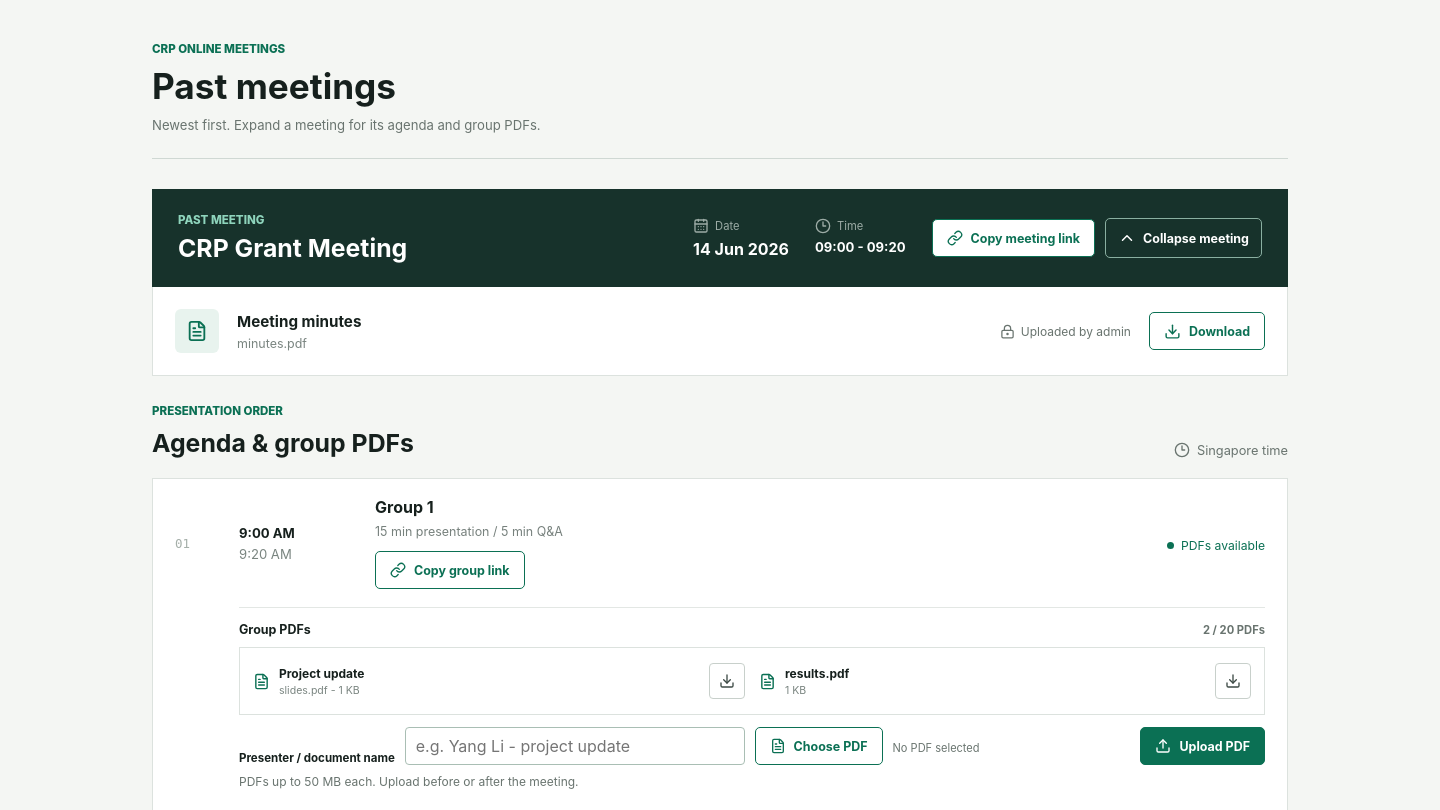
MeetingCollection › collapses from the bottom, restores focus, and preserves unfinished PDF input
Type "Draft update" into the field labelled "Presenter / document name". click: (575,746)
box: [405, 727, 745, 765]
(page scrolled)
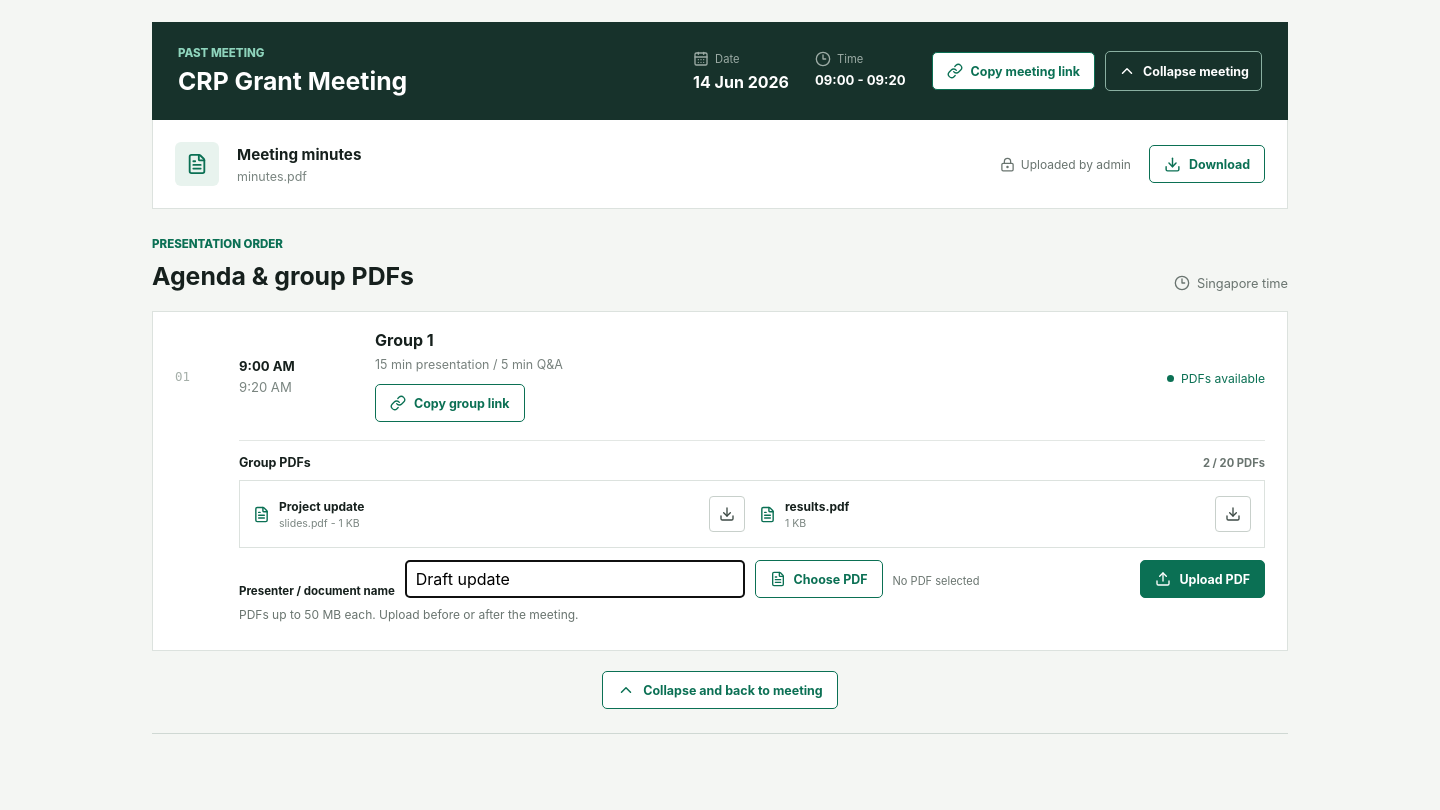
Click the button "Collapse and back to meeting". click: (720,690)
box: [602, 671, 838, 709]
(page scrolled)
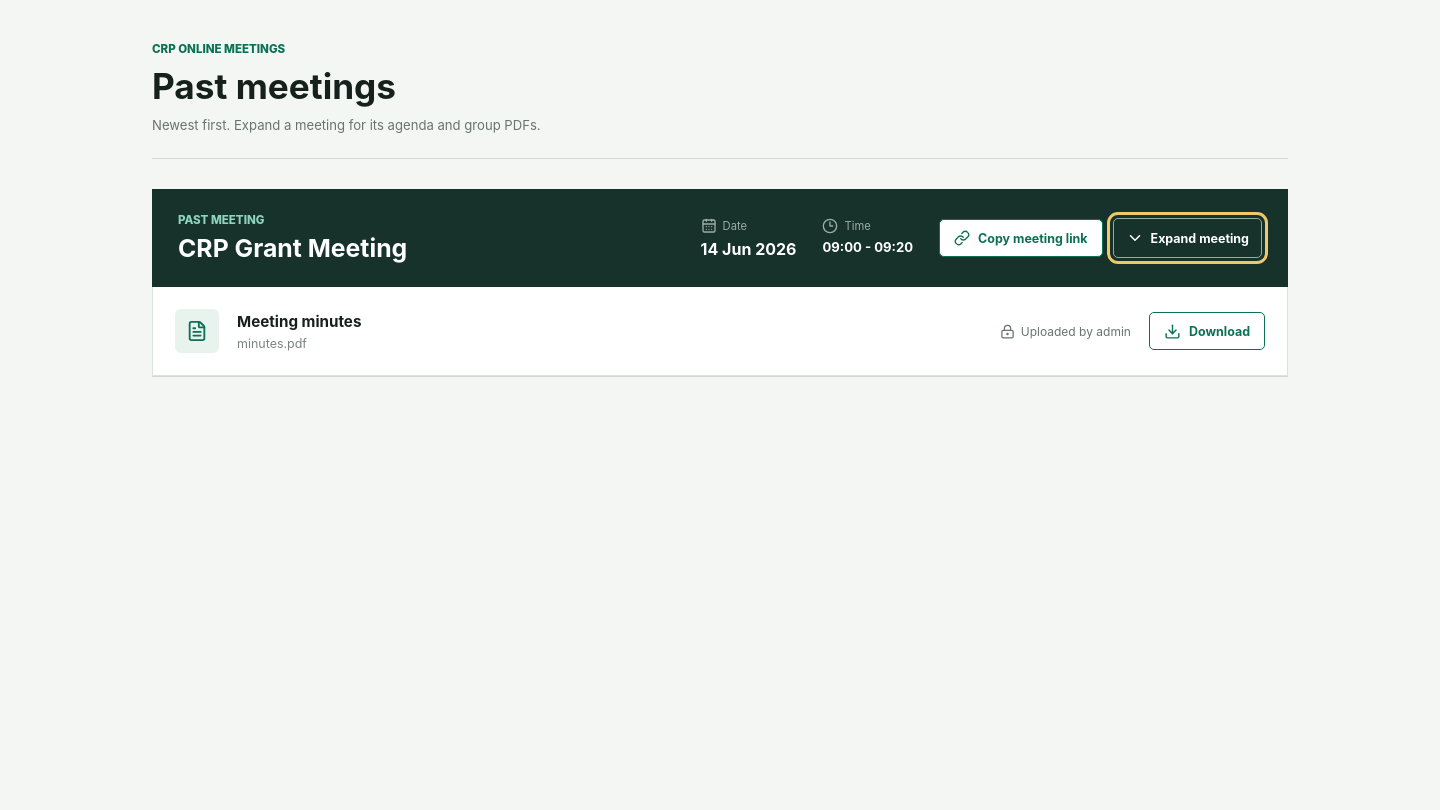
Expected: the text "minutes.pdf" is shown, [237, 336, 307, 351]
Expected: the button "Expand meeting" is collapsed, [1113, 218, 1262, 258]
Press Enter
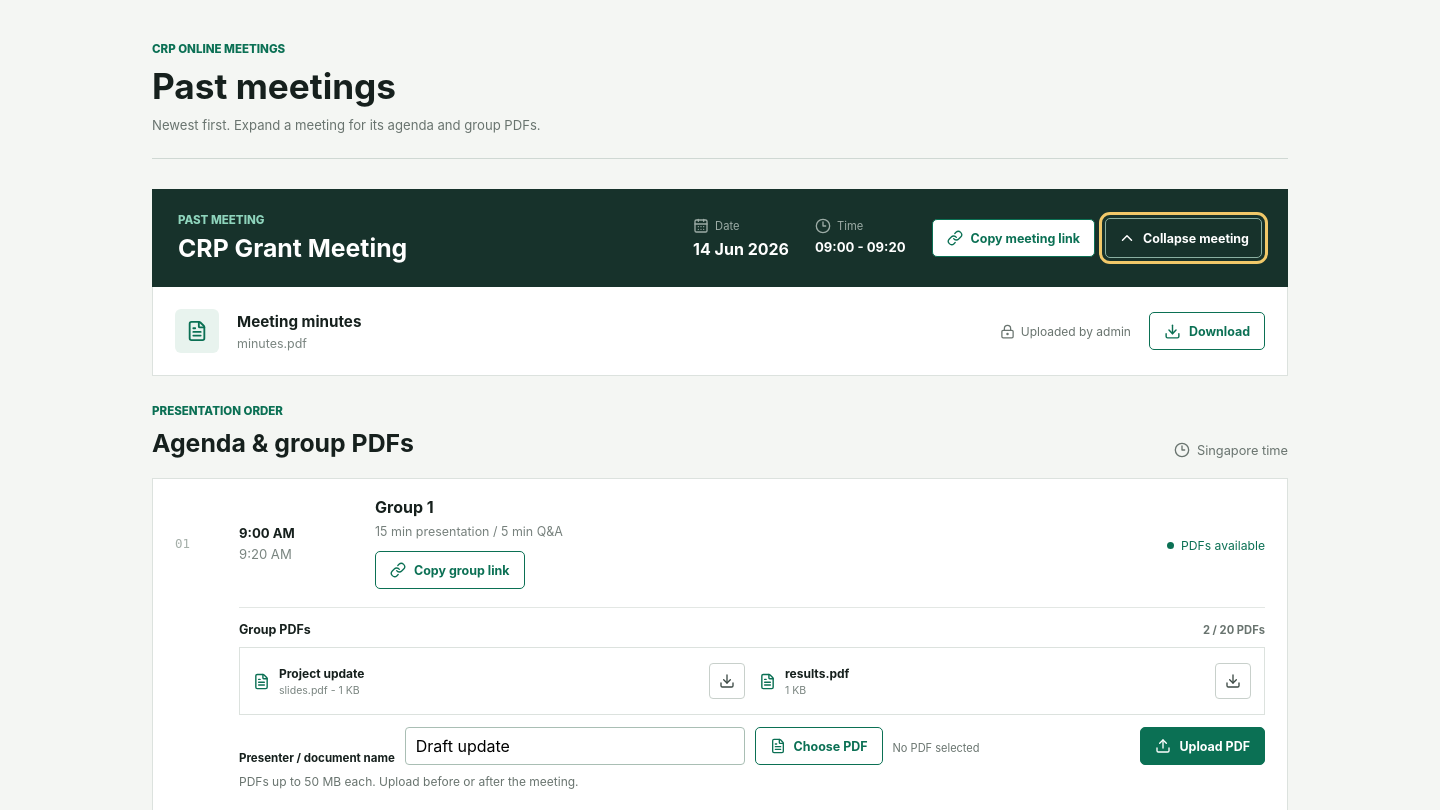
Expected: the element named "PDFs for Group 1" is shown, [239, 607, 1265, 799]
